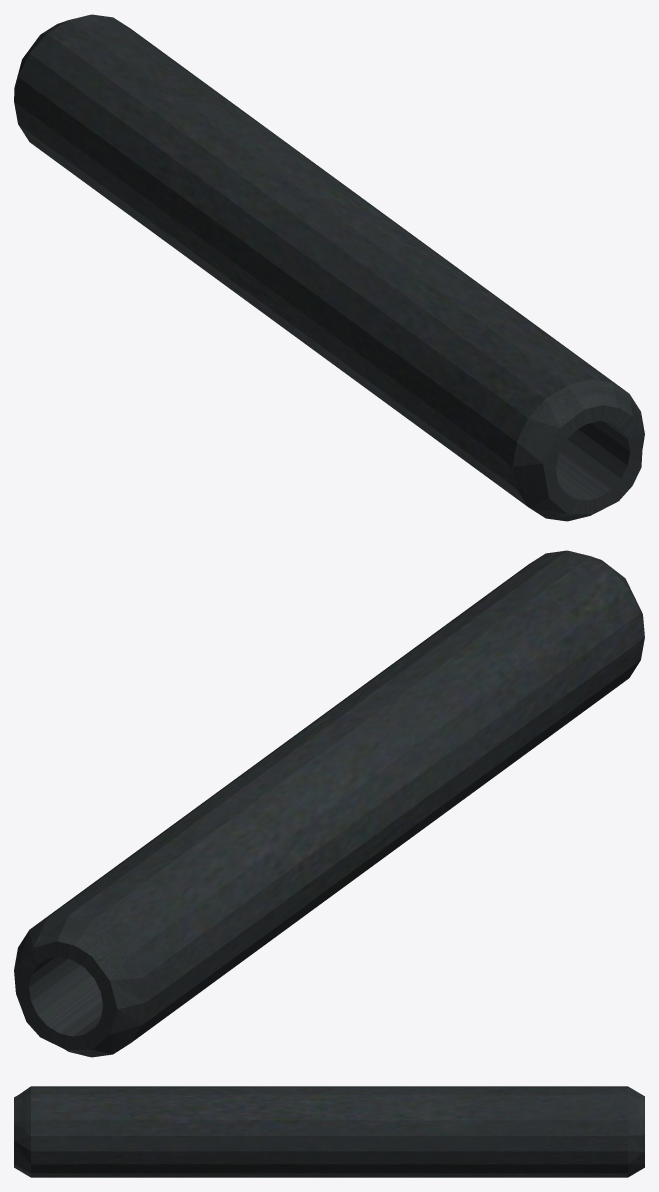
File: Pin_Spring.dae
The picture shows the model from 3 angles, top to bottom: view 1: azimuth 30°, elevation 25°; view 2: azimuth 150°, elevation 25°; view 3: azimuth 270°, elevation 25°; orthographic projection. The views are drawn at different scales.
Parts seen in each view (by area): view 1: Pin_Spring; view 2: Pin_Spring; view 3: Pin_Spring.
Boxes of the visible parts, <box> form: Pin_Spring: <box>14,14,644,521</box>; Pin_Spring: <box>14,550,644,1057</box>; Pin_Spring: <box>14,1086,644,1177</box>.
Bounding box in the file's own units: 0.00222 × 0.0153 × 0.00219.
1 material, 1 textured.
